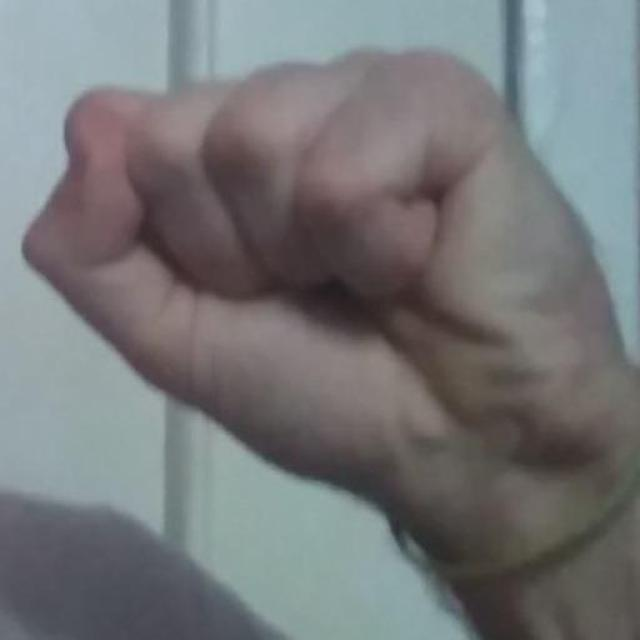hand: (20, 44, 639, 582)
